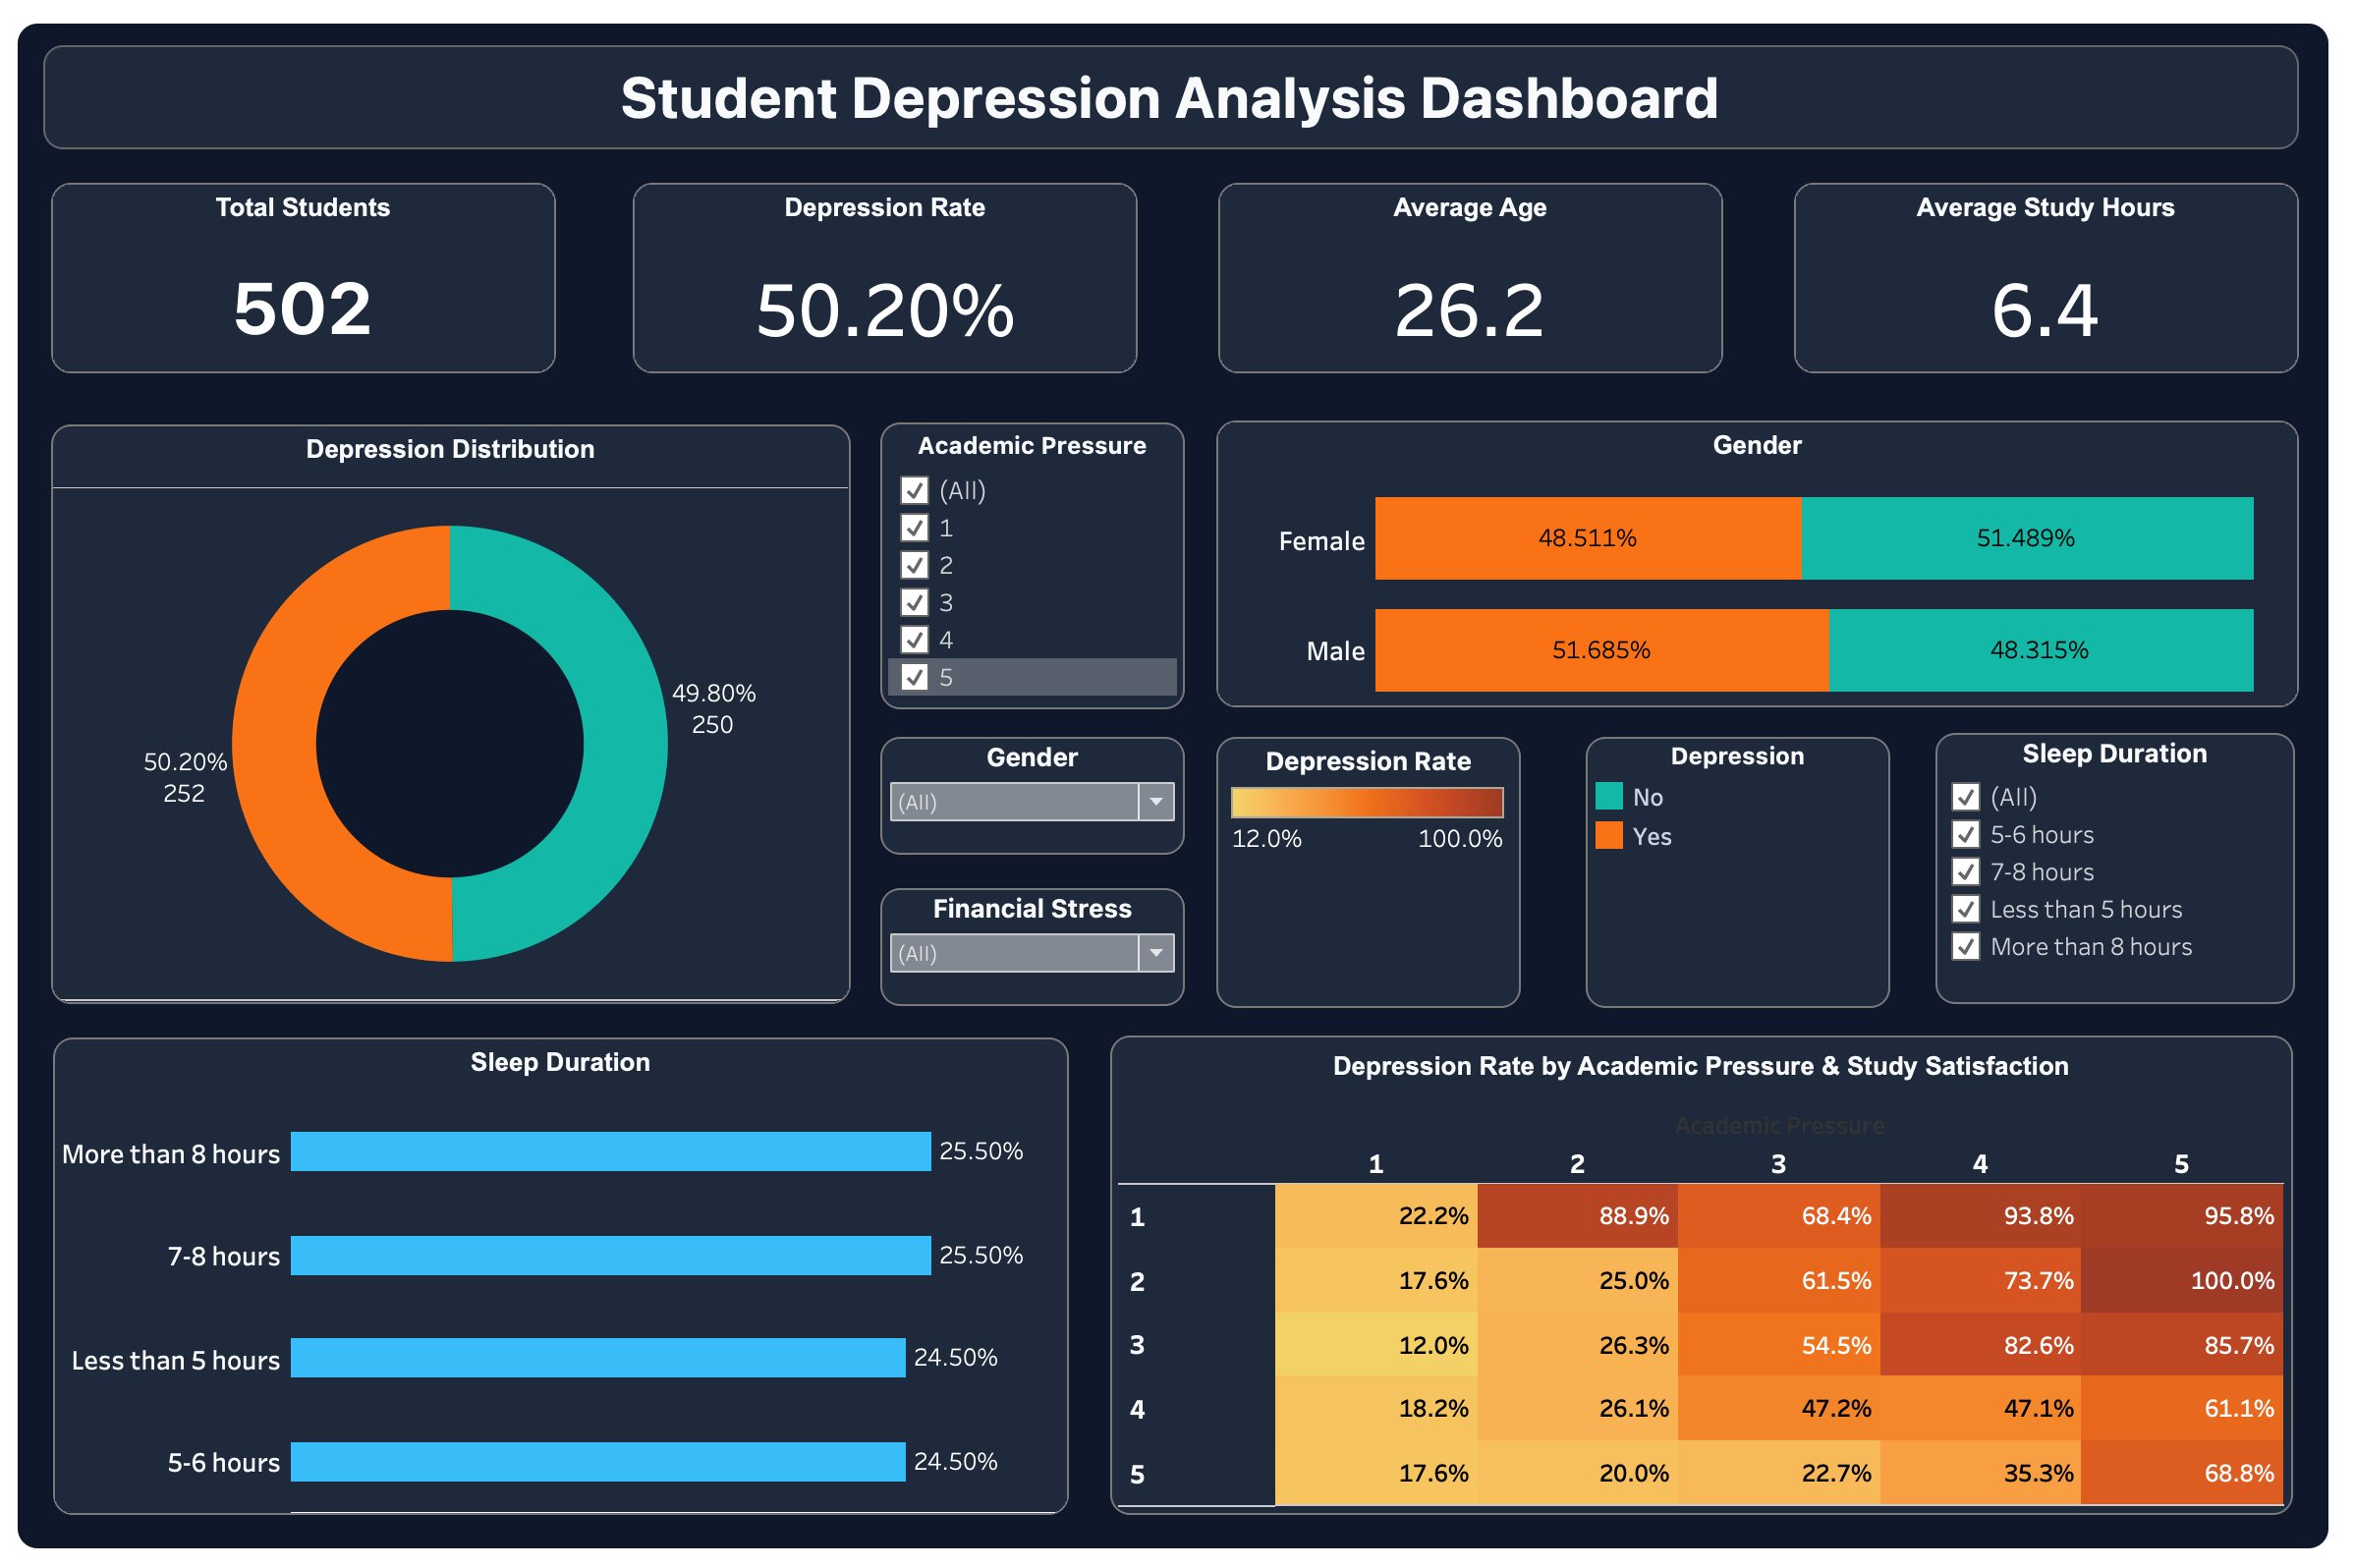

This screenshot's page, from the dashboard's own definition file:
{"tool":"tableau","page":{"name":"Dashboard 1","canvas":[1200,800],"ordinal":0},"visuals":[{"type":"blank","box":[8,8,1184,784]},{"type":"text","box":[25,23,1148,53]},{"type":"worksheet","title":"Total Students","mark":"Automatic","box":[20,84,275,115]},{"type":"worksheet","title":"Depression Rate","mark":"Automatic","box":[316,84,275,115]},{"type":"worksheet","title":"Average Age","mark":"Automatic","box":[614,84,275,115]},{"type":"worksheet","title":"Average Study Hours","mark":"Automatic","box":[907,84,275,115]},{"type":"worksheet","title":"100% Stacked Bar (Gender)","mark":"Automatic","rows":["gender"],"cols":["id"],"box":[613,205,569,164]},{"type":"worksheet","title":"Donut Chart (Depression Distribution)","mark":"Pie","rows":["Calculation_2455048739569675","Calculation_2455048739700749"],"box":[20,207,425,313]},{"type":"filter","title":"Donut Chart (Depression Distribution)","param":"[federated.1bn1e430snb2f51d9pzwl0s5ocxo].[none:academic_pressure:ok]","box":[451,215,155,146]},{"type":"filter","title":"Donut Chart (Depression Distribution)","param":"[federated.1bn1e430snb2f51d9pzwl0s5ocxo].[none:sleep_duration:nk]","box":[988,373,183,138]},{"type":"filter","title":"Donut Chart (Depression Distribution)","param":"[federated.1bn1e430snb2f51d9pzwl0s5ocxo].[none:gender:nk]","box":[451,375,155,60]},{"type":"legend","title":"Heatmap (Academic Pressure × Study Satisfaction)","param":"[federated.1bn1e430snb2f51d9pzwl0s5ocxo].[usr:Calculation_2455048735072258:qk]","box":[622,375,155,138]},{"type":"legend","title":"100% Stacked Bar (Gender)","param":"[federated.1bn1e430snb2f51d9pzwl0s5ocxo].[none:depression:nk]","box":[810,375,155,138]},{"type":"filter","title":"Donut Chart (Depression Distribution)","param":"[federated.1bn1e430snb2f51d9pzwl0s5ocxo].[none:financial_stress:ok]","box":[451,452,155,60]},{"type":"worksheet","title":"Heatmap (Academic Pressure × Study Satisfaction)","mark":"Square","rows":["study_satisfaction"],"cols":["academic_pressure"],"box":[559,518,620,262]},{"type":"worksheet","title":"Horizontal Bar (Sleep Duration)","mark":"Automatic","rows":["sleep_duration"],"cols":["id"],"box":[21,519,535,261]}]}

Visuals, with their boxes in screenshot pixels (x1, y1, x2, y2), scaled from the page's 1200x800 canvas onto the 2354x1568 screenshot:
blank: bbox=[16, 16, 2338, 1552]
text: bbox=[49, 45, 2301, 149]
"Total Students" worksheet: bbox=[39, 165, 579, 390]
"Depression Rate" worksheet: bbox=[620, 165, 1159, 390]
"Average Age" worksheet: bbox=[1205, 165, 1744, 390]
"Average Study Hours" worksheet: bbox=[1779, 165, 2319, 390]
"100% Stacked Bar (Gender)" worksheet: bbox=[1203, 402, 2319, 723]
"Donut Chart (Depression Distribution)" worksheet (Pie marks): bbox=[39, 406, 873, 1019]
"Donut Chart (Depression Distribution)" filter: bbox=[884, 421, 1189, 707]
"Donut Chart (Depression Distribution)" filter: bbox=[1938, 731, 2297, 1001]
"Donut Chart (Depression Distribution)" filter: bbox=[884, 735, 1189, 853]
"Heatmap (Academic Pressure × Study Satisfaction)" legend: bbox=[1220, 735, 1524, 1005]
"100% Stacked Bar (Gender)" legend: bbox=[1589, 735, 1893, 1005]
"Donut Chart (Depression Distribution)" filter: bbox=[884, 886, 1189, 1003]
"Heatmap (Academic Pressure × Study Satisfaction)" worksheet (Square marks): bbox=[1096, 1015, 2313, 1529]
"Horizontal Bar (Sleep Duration)" worksheet: bbox=[41, 1017, 1091, 1529]
